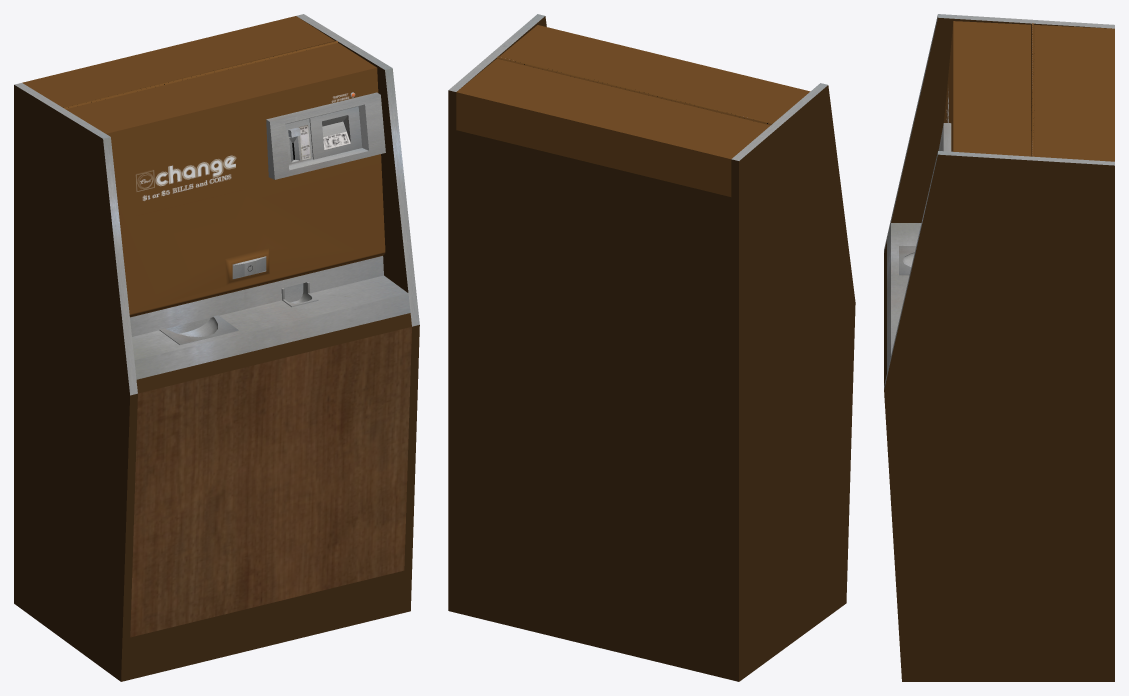
File: rowechanger.FBX
3 renders of one model, left to right at view 1: azimuth 30°, elevation 25°; view 2: azimuth 150°, elevation 25°; view 3: azimuth 270°, elevation 25°, orthographic.
Parts seen in each view (by area): view 1: rowechanger-cab, rowechanger-shiny; view 2: rowechanger-cab, rowechanger-shiny; view 3: rowechanger-cab, rowechanger-shiny.
Part boxes in pixels (x1,y1,x2,y2): rowechanger-cab: (14,16,419,681); rowechanger-shiny: (14,14,419,395); rowechanger-cab: (448,16,855,681); rowechanger-shiny: (449,14,827,160); rowechanger-cab: (884,17,1114,681); rowechanger-shiny: (884,14,1114,389).
Bounding box in the file's own units: 70.49 × 123 × 48.9.
Materials: 4 (4 with a texture image).
